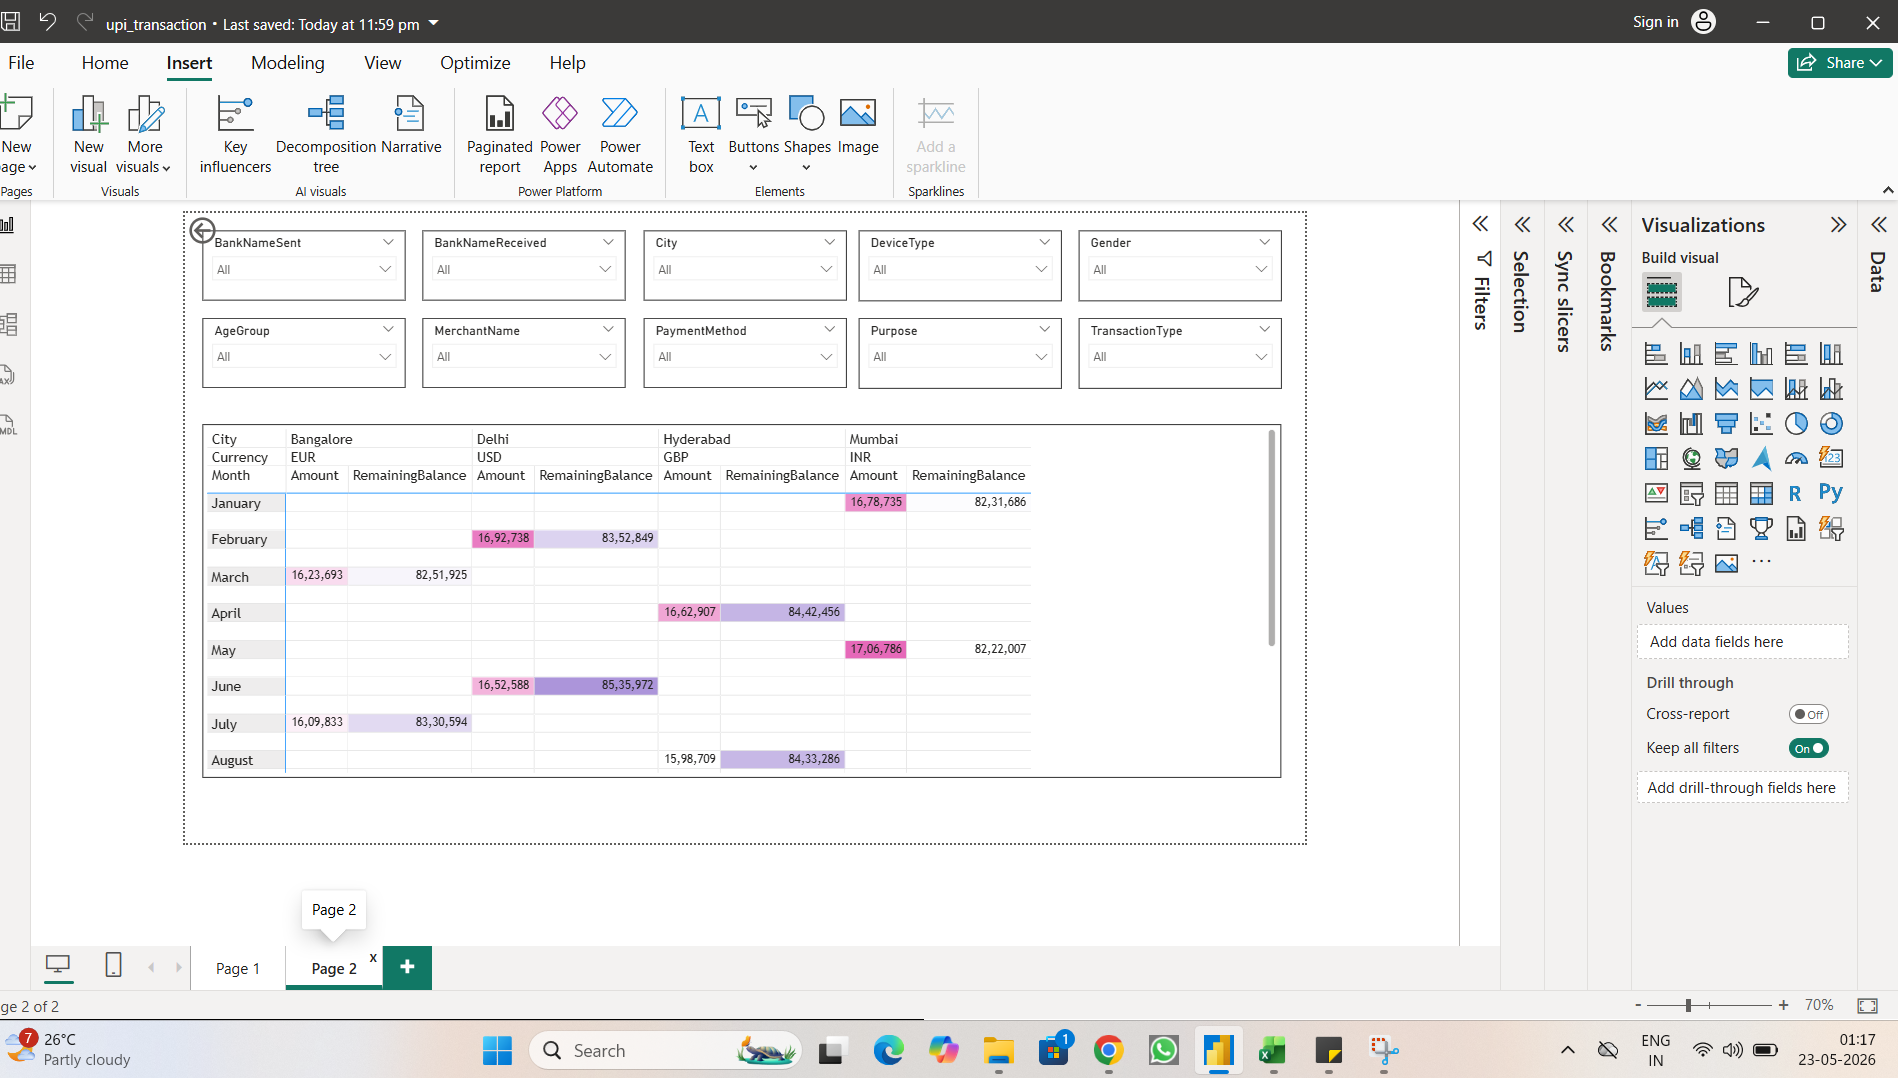

What the dashboard file says about the page in this screenshot:
{"tool":"powerbi","page":{"name":"Page 2","canvas":[1280,720],"ordinal":1},"visuals":[{"type":"slicer","fields":{"Values":["UPI Transaction.BankNameSent"]},"box":[20,20,232,80],"z":0},{"type":"actionButton","box":[0,0,100,40],"z":1000},{"type":"slicer","fields":{"Values":["UPI Transaction.BankNameReceived"]},"box":[272,20,232,80],"z":2000},{"type":"slicer","fields":{"Values":["UPI Transaction.City"]},"box":[524,20.6,232,80],"z":3000},{"type":"slicer","fields":{"Values":["UPI Transaction.DeviceType"]},"box":[770,20,232,81],"z":4000},{"type":"slicer","fields":{"Values":["UPI Transaction.Gender"]},"box":[1022,20,232,81],"z":5000},{"type":"slicer","fields":{"Values":["UPI Transaction.AgeGroup"]},"box":[20,120,232,80],"z":6000},{"type":"slicer","fields":{"Values":["UPI Transaction.MerchantName"]},"box":[272,120,232,80],"z":7000},{"type":"slicer","fields":{"Values":["UPI Transaction.PaymentMethod"]},"box":[524,120,232,80],"z":8000},{"type":"slicer","fields":{"Values":["UPI Transaction.Purpose"]},"box":[770,120,232,81],"z":9000},{"type":"slicer","fields":{"Values":["UPI Transaction.TransactionType"]},"box":[1022,120,232,81],"z":10000},{"type":"pivotTable","fields":{"Values":["Sum(UPI Transaction.Amount)","Sum(UPI Transaction.RemainingBalance)"],"Rows":["UPI Transaction.TransactionDate.Variation.Date Hierarchy.Month"],"Columns":["UPI Transaction.City","UPI Transaction.Currency"]},"box":[20,241.4,1232.9,404.3],"z":10001}]}

Visuals, with their boxes on the page's 1280x720 design canvas (x1, y1, x2, y2). These are canvas units, not pixel positions in the 1898x1078 screenshot, which may show the page scaled, cropped or inside an application window:
slicer - UPI Transaction.BankNameSent: box=[20, 20, 252, 100]
actionButton: box=[0, 0, 100, 40]
slicer - UPI Transaction.BankNameReceived: box=[272, 20, 504, 100]
slicer - UPI Transaction.City: box=[524, 21, 756, 101]
slicer - UPI Transaction.DeviceType: box=[770, 20, 1002, 101]
slicer - UPI Transaction.Gender: box=[1022, 20, 1254, 101]
slicer - UPI Transaction.AgeGroup: box=[20, 120, 252, 200]
slicer - UPI Transaction.MerchantName: box=[272, 120, 504, 200]
slicer - UPI Transaction.PaymentMethod: box=[524, 120, 756, 200]
slicer - UPI Transaction.Purpose: box=[770, 120, 1002, 201]
slicer - UPI Transaction.TransactionType: box=[1022, 120, 1254, 201]
pivotTable - Sum(UPI Transaction.Amount) x Sum(UPI Transaction.RemainingBalance): box=[20, 241, 1253, 646]
